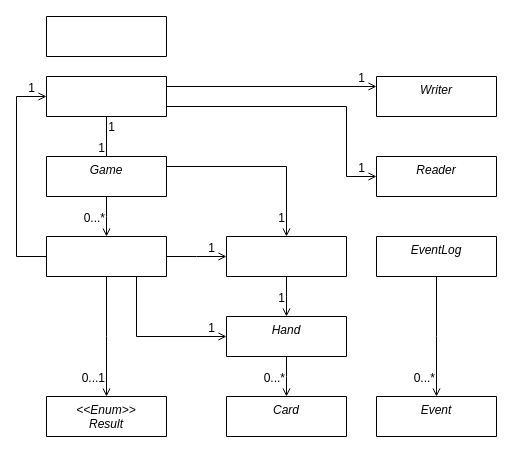
The diagram is 513 pixels wide and 453 high, and some of its shapes have lost their labels. Each missing label, with the centre of its shape:
GUI: (x=106, y=96)
Main: (x=106, y=36)
Player: (x=286, y=256)
Round: (x=106, y=256)
